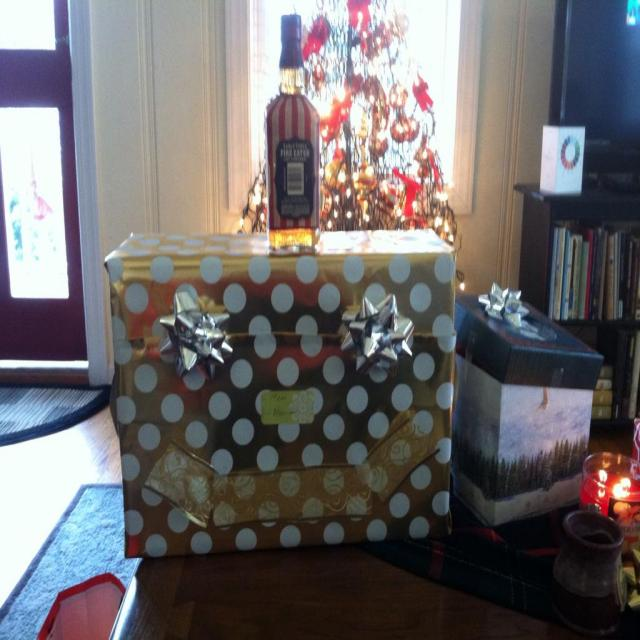table: (103, 205, 484, 580)
